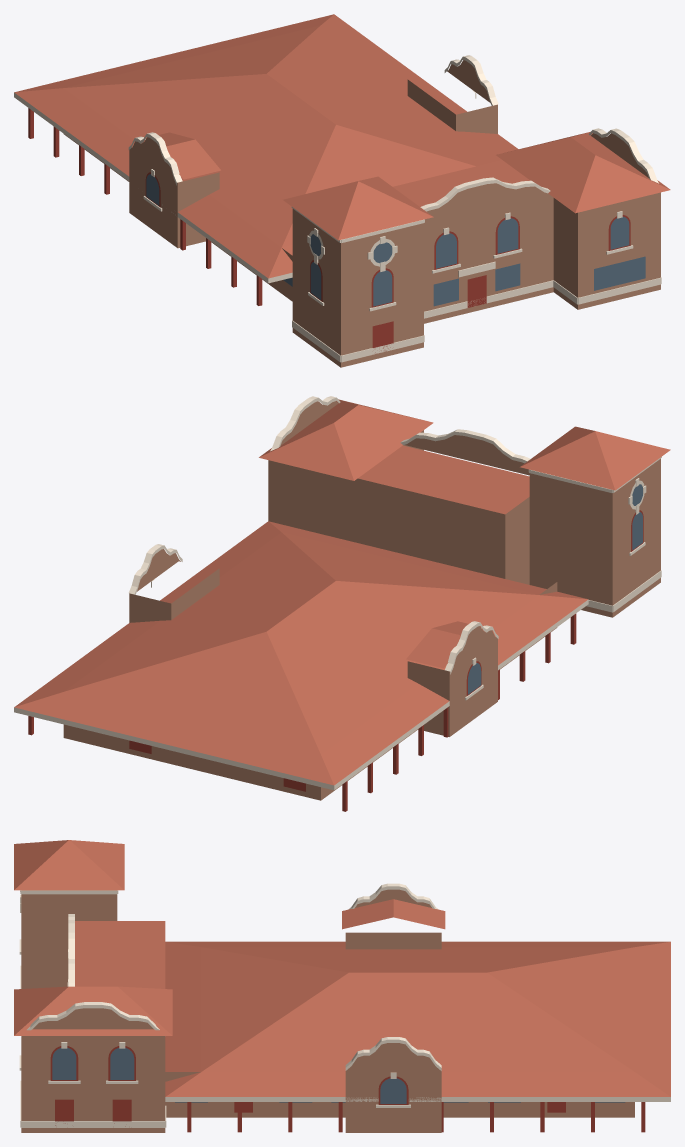
The model's file is ral-city-market.glb.
3 renders of one model, top to bottom at view 1: azimuth 30°, elevation 25°; view 2: azimuth 150°, elevation 25°; view 3: azimuth 270°, elevation 25°, orthographic.
Visible parts, largest first — view 1: City Market; view 2: City Market; view 3: City Market.
Part boxes in pixels (box(x1,y1,x2,y2)): City Market: box(14, 14, 670, 367); City Market: box(14, 396, 670, 811); City Market: box(14, 840, 670, 1132).
Bounding box in the file's own units: 31.8 × 14.5 × 54.7.
